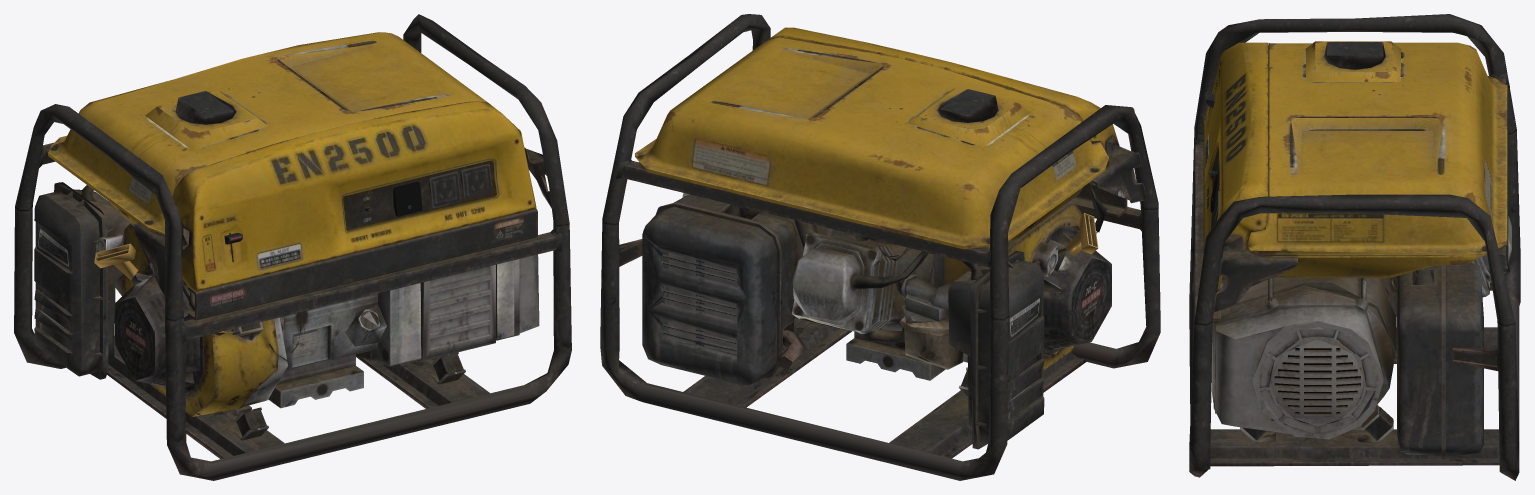
File: deploy_generator.glb
The picture shows the model from 3 angles, left to right: view 1: azimuth 30°, elevation 25°; view 2: azimuth 150°, elevation 25°; view 3: azimuth 270°, elevation 25°; orthographic projection.
Visible parts, largest first — view 1: portable_generator; view 2: portable_generator; view 3: portable_generator.
Part boxes in pixels (x1,y1,x2,y2): portable_generator: (14,14,571,480); portable_generator: (600,14,1160,480); portable_generator: (1189,14,1520,480).
Size of the model in its own units: 1.23 by 0.866 by 0.8467.
Materials: 2 (2 with a texture image).
